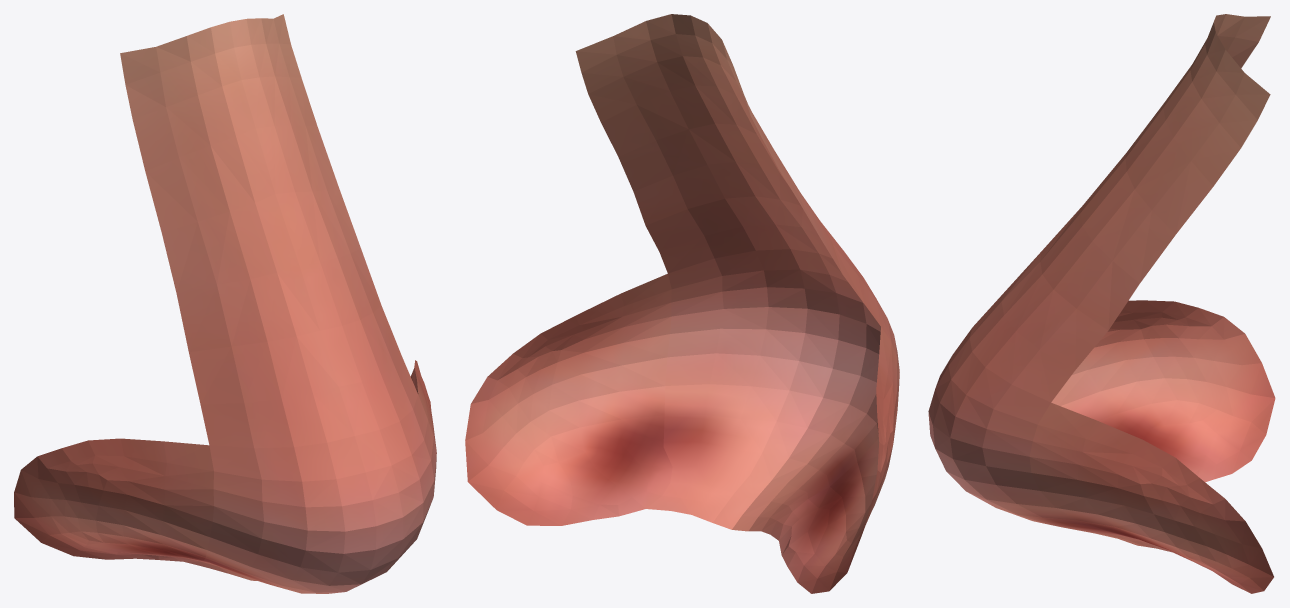
File: euro-fem-nose-sellion-shallow.obj
3 renders of one model, left to right at view 1: azimuth 30°, elevation 25°; view 2: azimuth 150°, elevation 25°; view 3: azimuth 270°, elevation 25°, orthographic. The views are drawn at different scales.
Parts seen in each view (by area): view 1: euro-fem-nose-sel.007; view 2: euro-fem-nose-sel.007; view 3: euro-fem-nose-sel.007.
Part boxes in pixels (<box>): euro-fem-nose-sel.007: <box>14,14,436,593</box>; euro-fem-nose-sel.007: <box>465,14,899,593</box>; euro-fem-nose-sel.007: <box>928,14,1275,593</box>.
Bounding box in the file's own units: 0.2206 × 0.2864 × 0.1737.
1 material, 1 textured.
